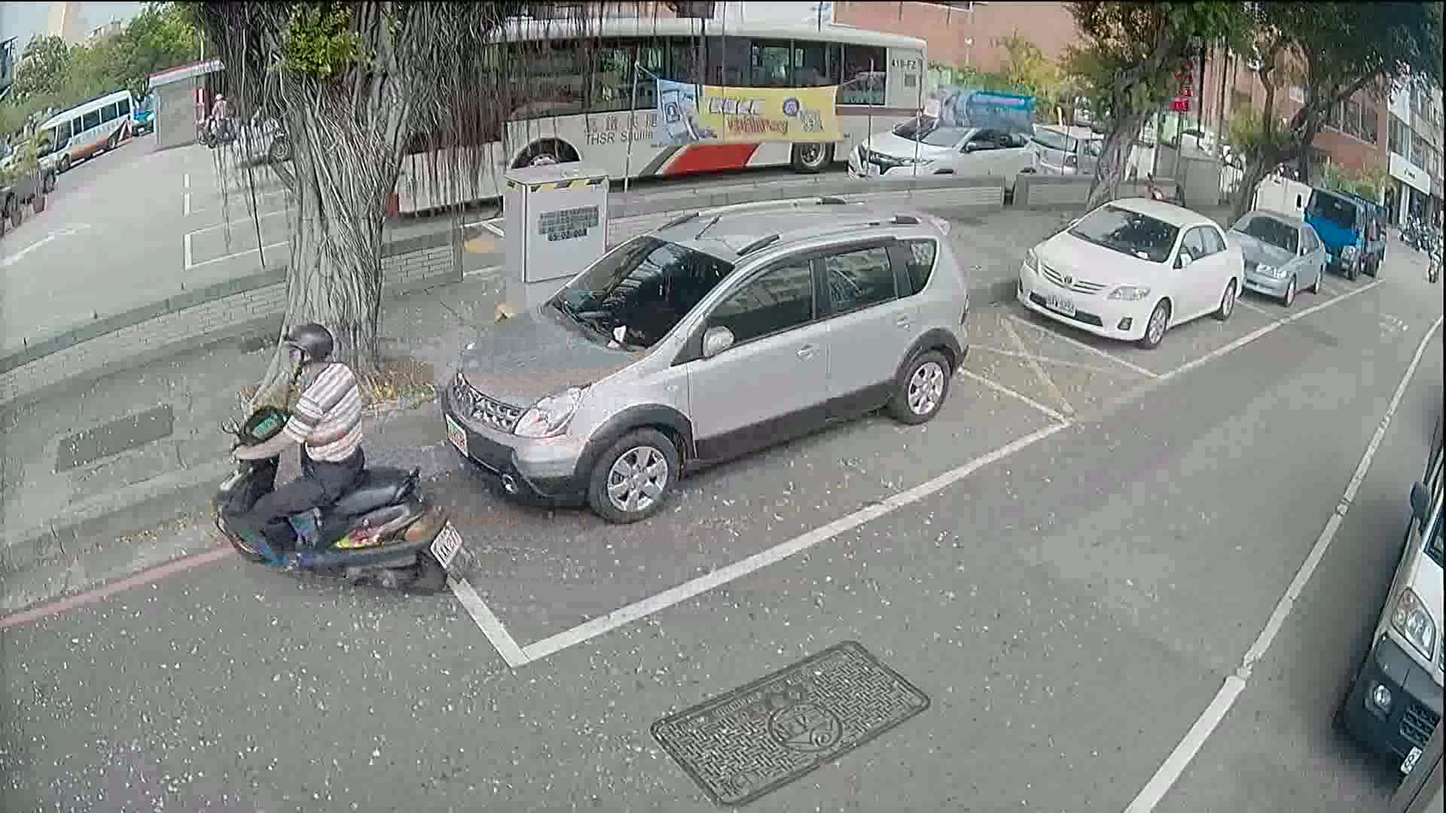person: (229, 321, 365, 571), (208, 85, 232, 143)
